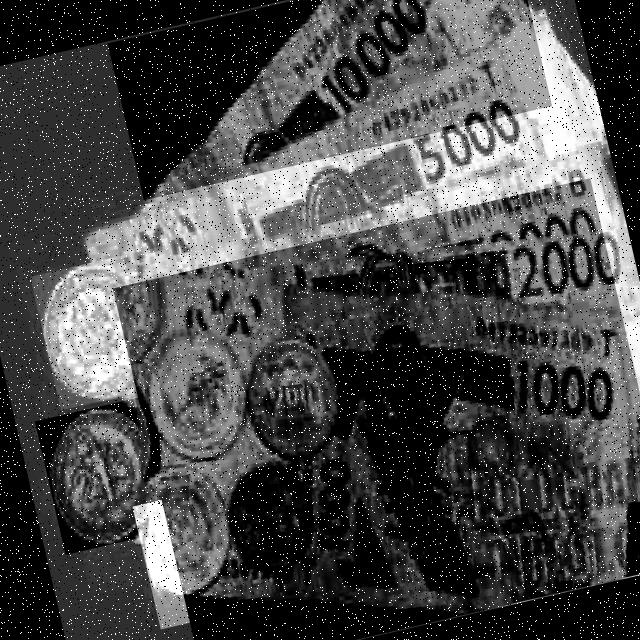fukk: (240, 476, 326, 583)
juroom derem: (51, 408, 154, 545)
juroom fukk: (146, 358, 243, 483)
niaar junni: (144, 0, 529, 200)
niaar teemeer: (132, 276, 627, 615)
niaari fukk: (144, 493, 243, 620)
nient fukk: (245, 350, 335, 469)
teemeer: (45, 264, 148, 399)
